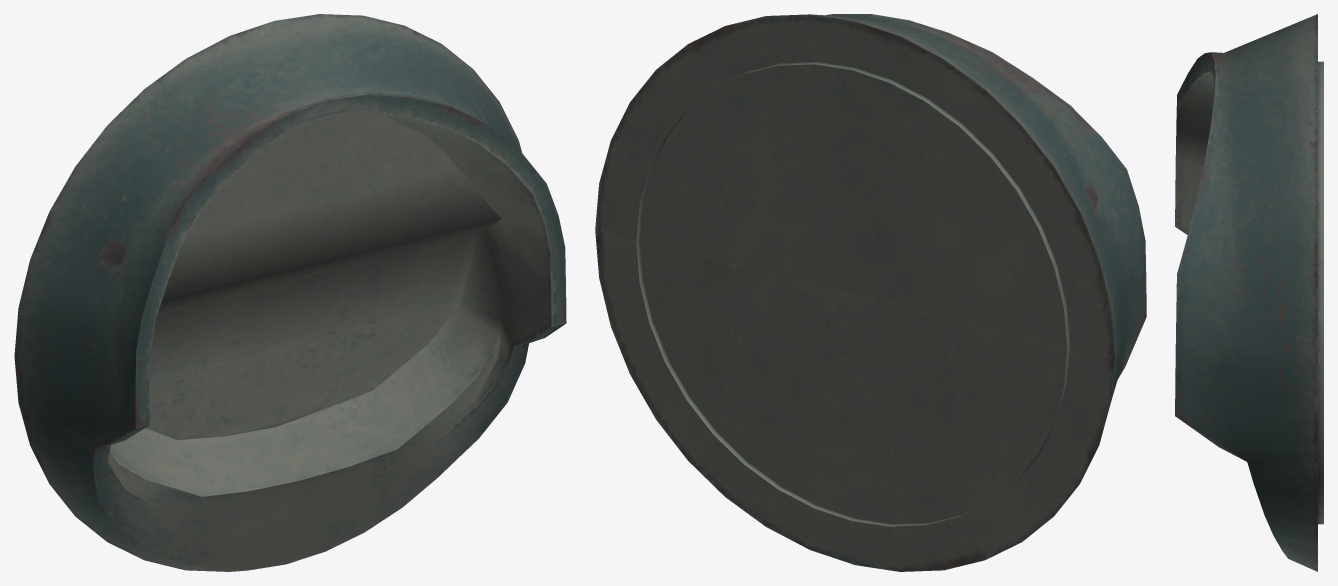
The model's file is Turret_01.glb.
3 views of the same model, side by side, from view 1: azimuth 30°, elevation 25°; view 2: azimuth 150°, elevation 25°; view 3: azimuth 270°, elevation 25° (orthographic). The views are drawn at different scales.
Visible parts, largest first — view 1: set_0_group_0; view 2: set_0_group_0; view 3: set_0_group_0.
Part boxes in pixels (left/top/right/bottom): set_0_group_0: left=14, top=14, right=566, bottom=571; set_0_group_0: left=595, top=14, right=1146, bottom=571; set_0_group_0: left=1175, top=14, right=1323, bottom=571.
Bounding box in the file's own units: 1.85 × 1.85 × 0.4931.
1 material, 1 textured.
